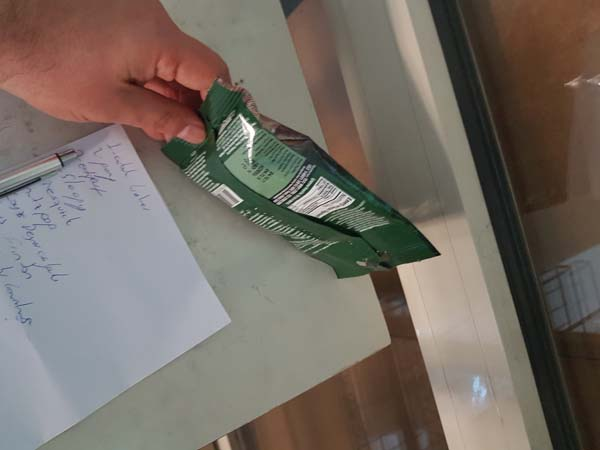peysankavrulmusfindik: (155, 75, 447, 287)
